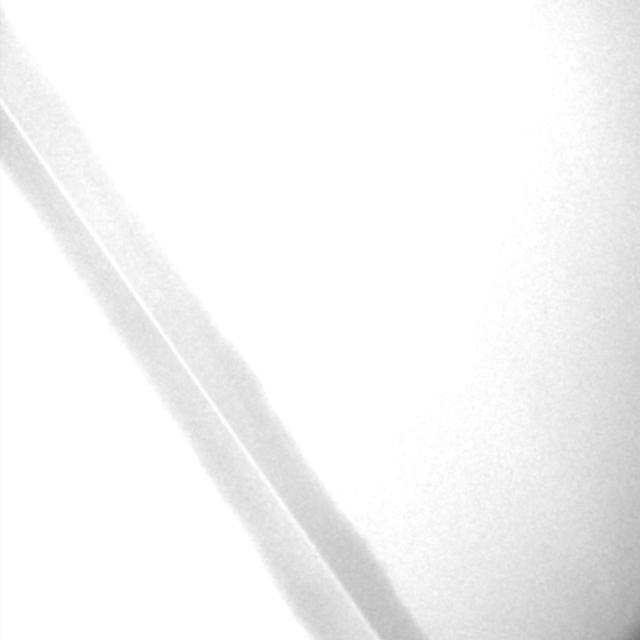broken arc: (2, 100, 378, 638)
